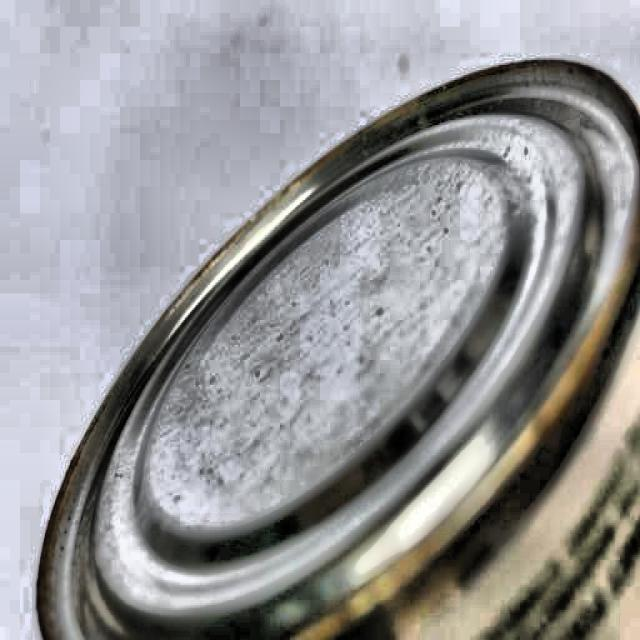metal: (46, 60, 640, 638)
